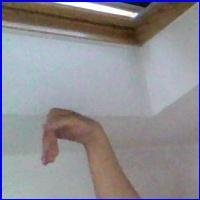del: (34, 108, 108, 173)
